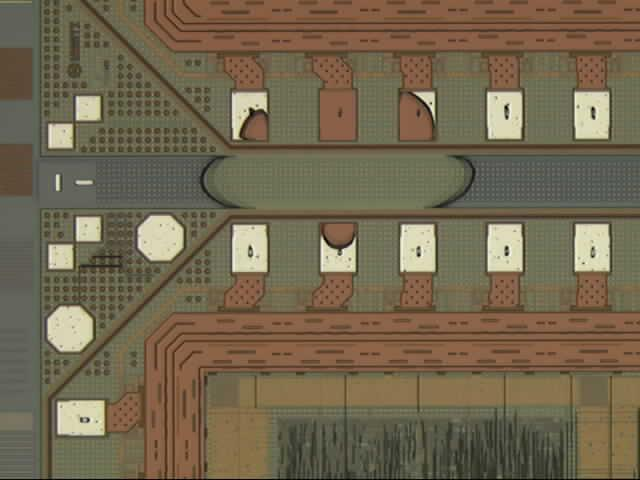BLOCK ETCH: (194, 82, 487, 256)
